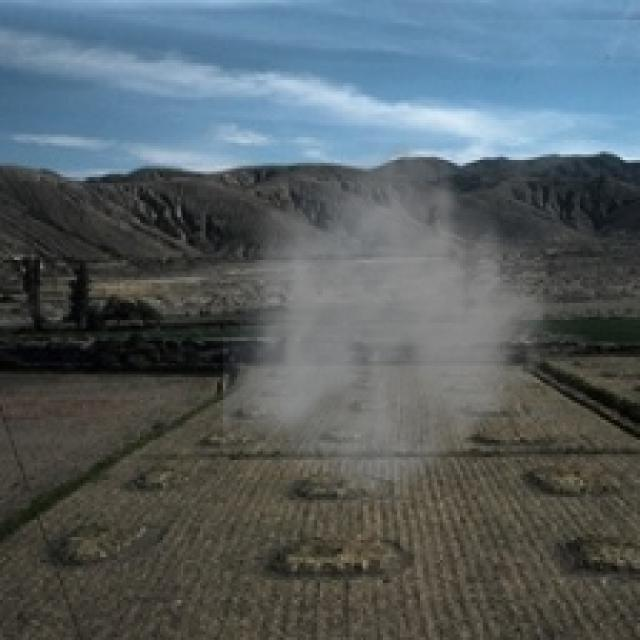smoke: (223, 126, 588, 523)
